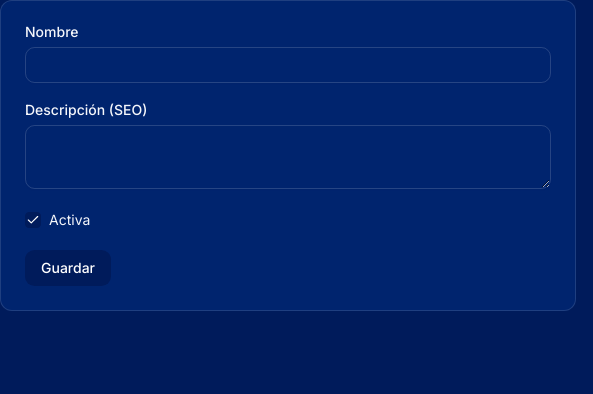
Test case: CategoriaForm › muestra error si el nombre está vacío
Step 1. Click the button "Guardar" → [68, 268], box [25, 250, 111, 286]
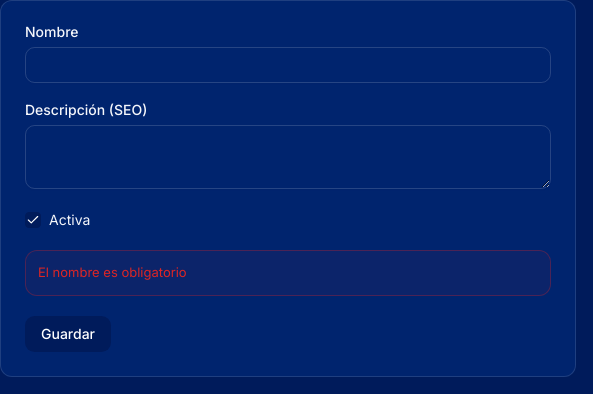
Result: the text "El nombre es obligatorio" is shown at [25, 250, 551, 296]
